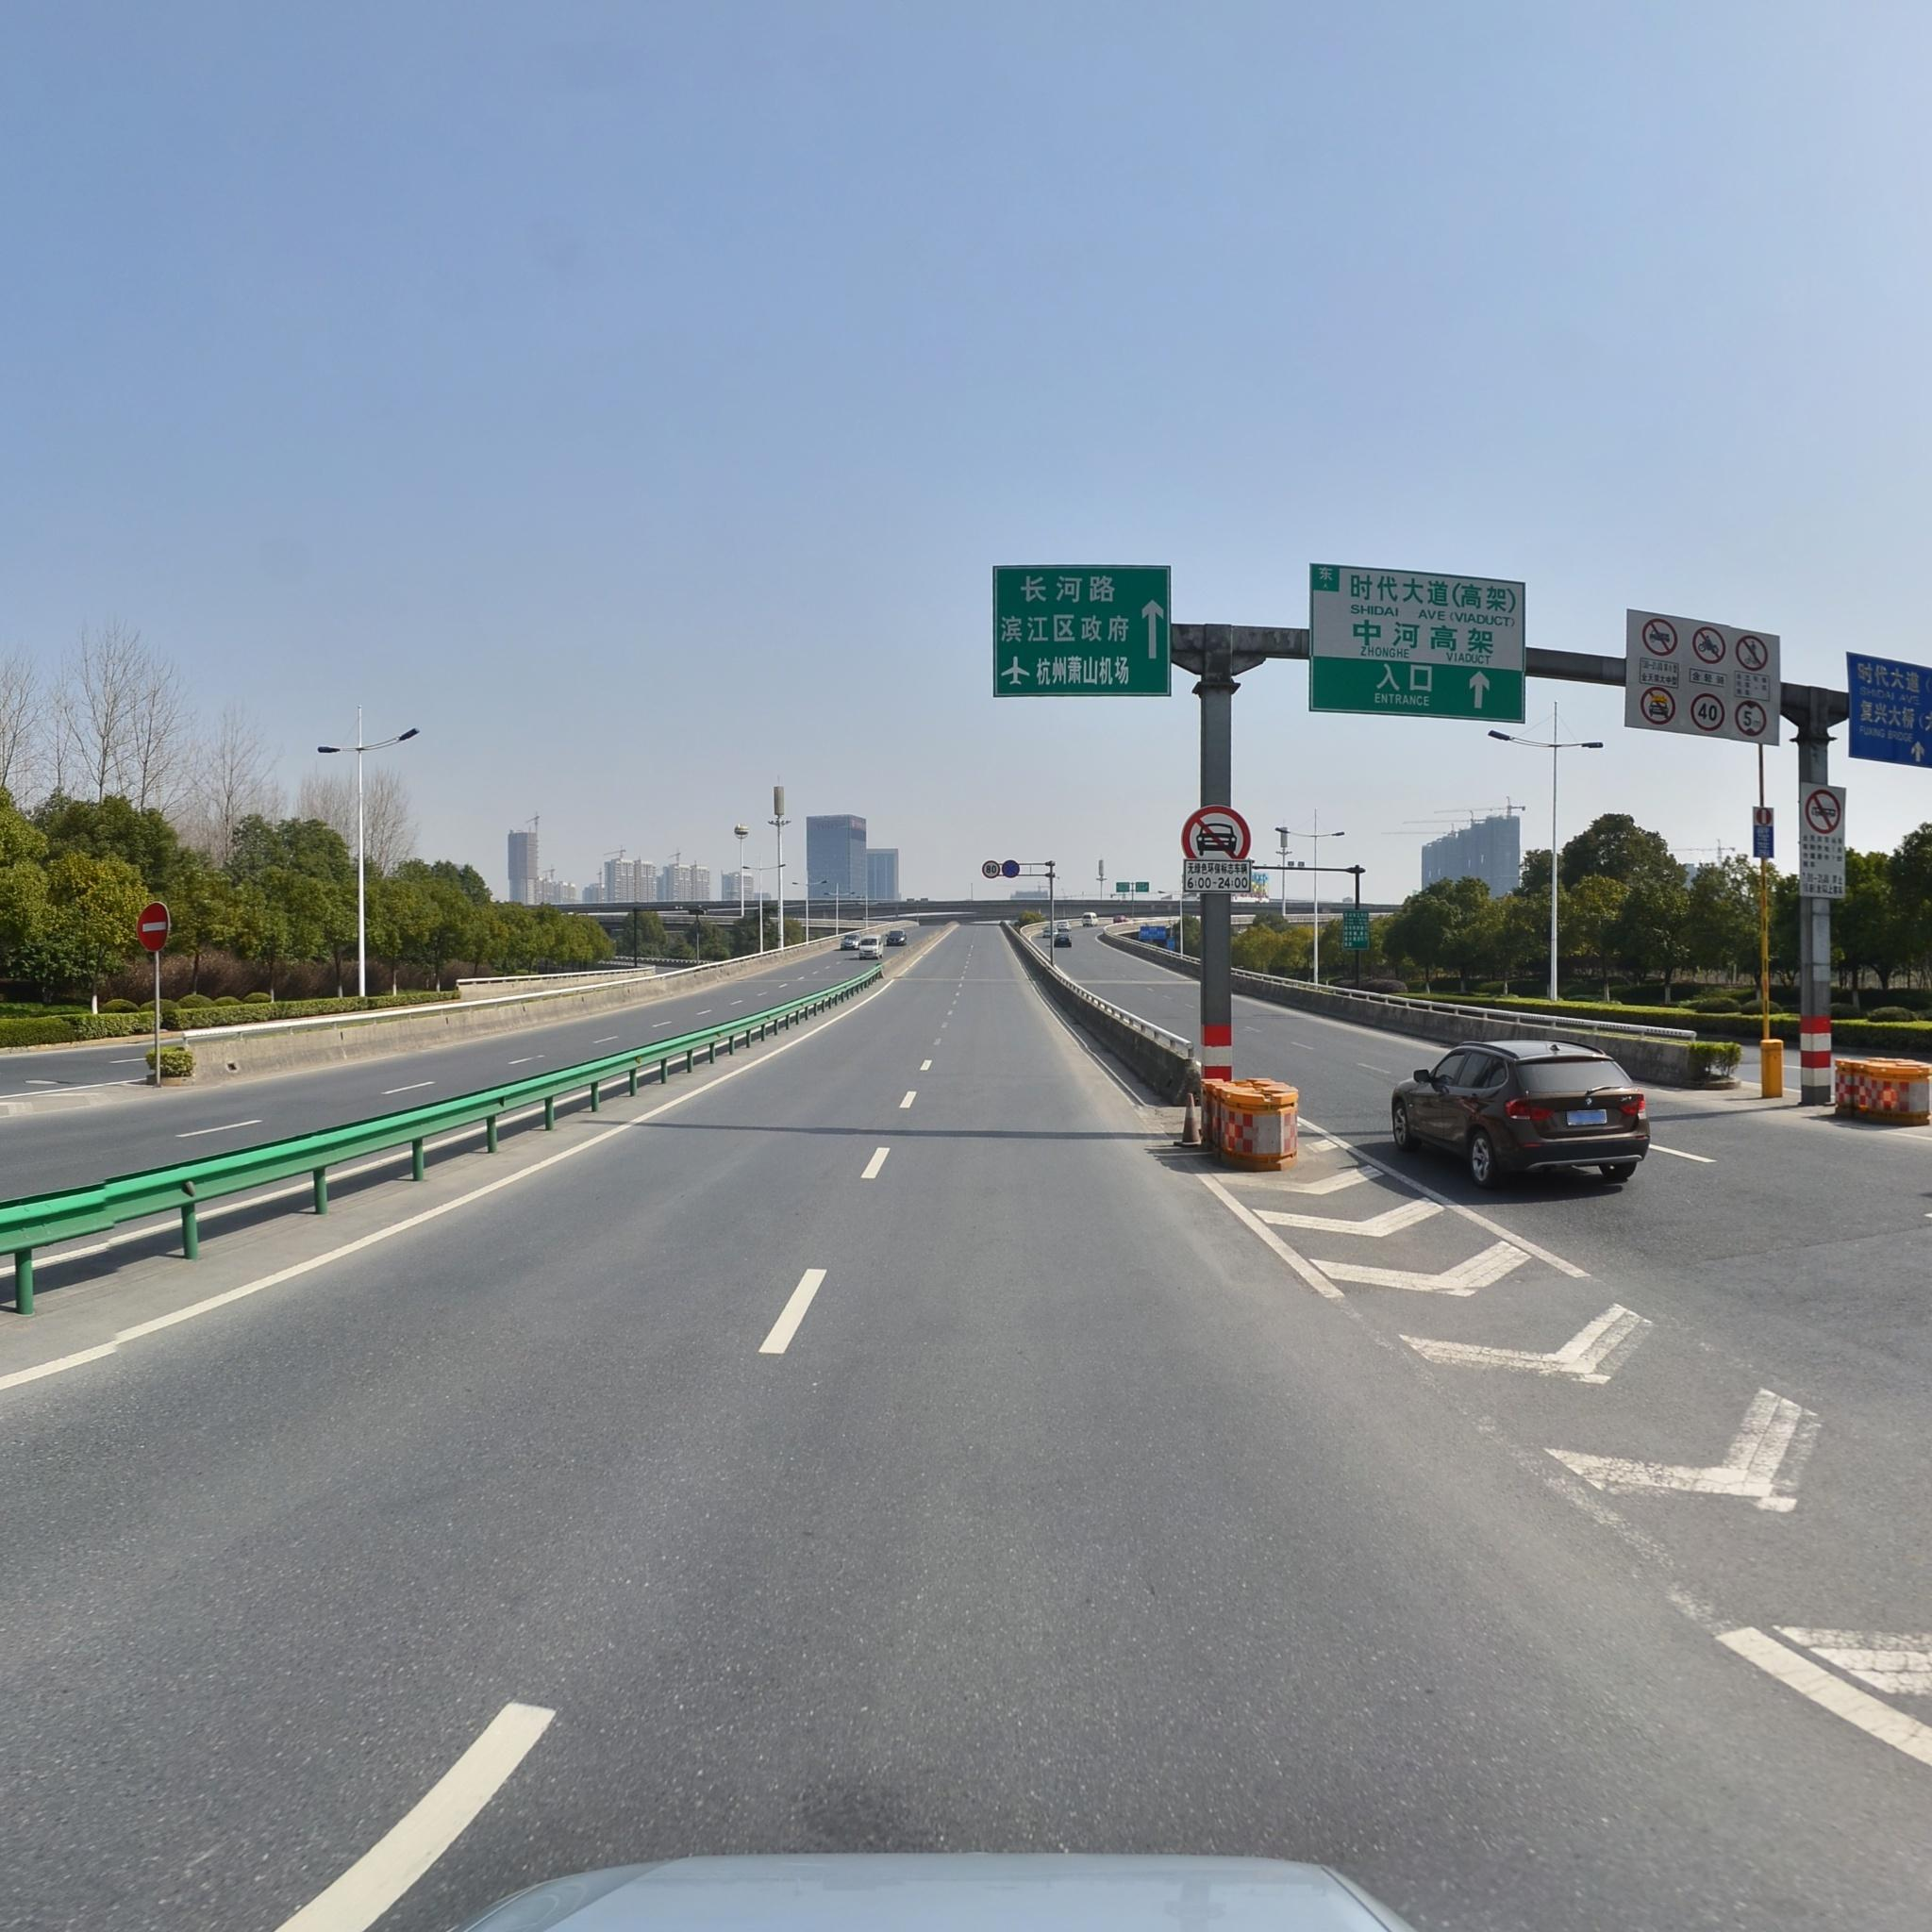p10: (1180, 805, 1251, 860)
p12: (1693, 626, 1727, 663)
p26: (1642, 617, 1677, 656)
p3: (1806, 789, 1840, 835)
pl40: (1693, 694, 1725, 731)
pn: (1001, 862, 1021, 878)
